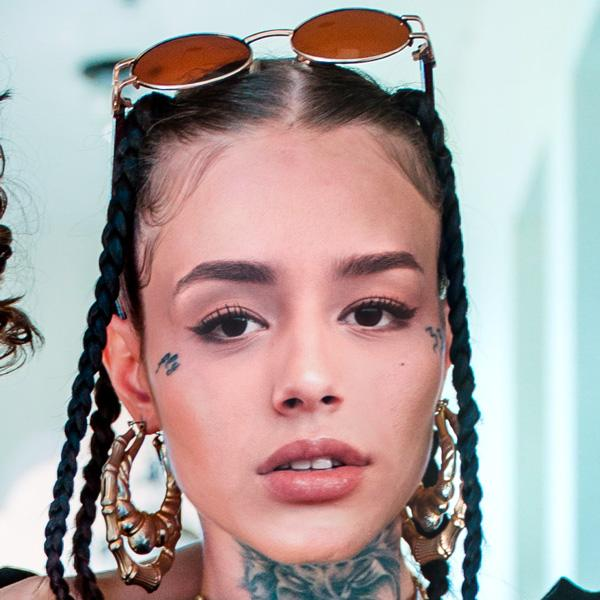Eyes: (178, 293, 280, 365), (324, 286, 424, 349)
